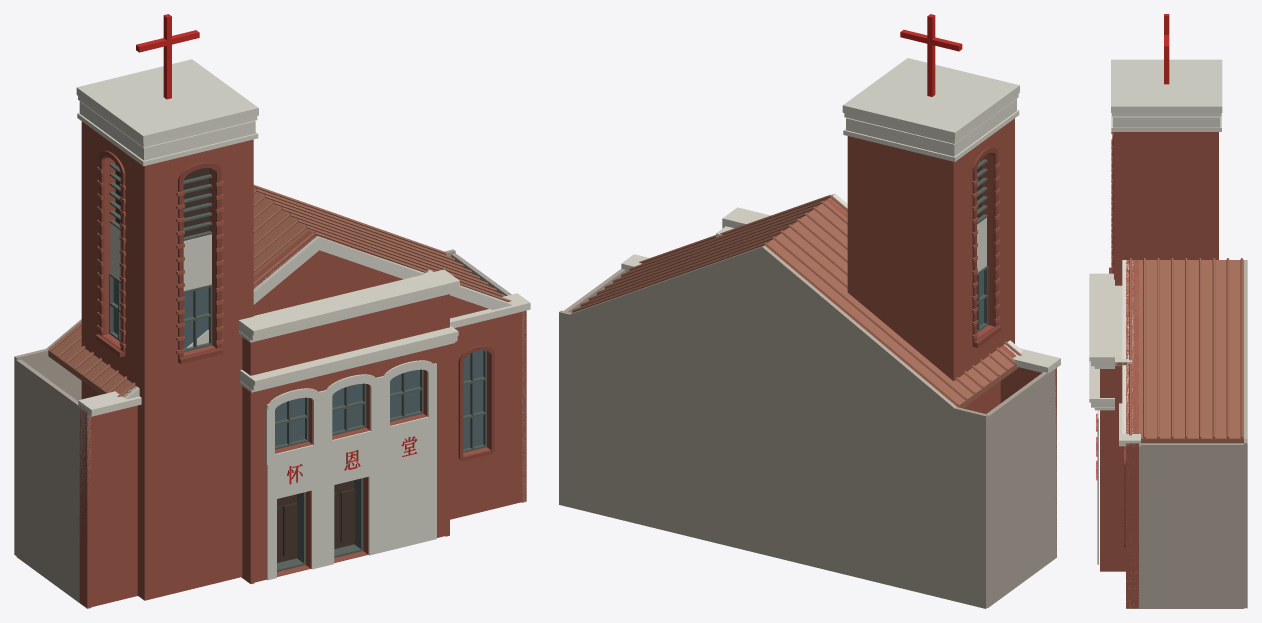
The model's file is jingan-grace-church-street-front-lod.glb.
3 views of the same model, side by side, from view 1: azimuth 30°, elevation 25°; view 2: azimuth 150°, elevation 25°; view 3: azimuth 270°, elevation 25° (orthographic). The views are drawn at different scales.
Parts seen in each view (by area): view 1: 怀恩堂陕西北路入口与东南角砖塔; view 2: 怀恩堂陕西北路入口与东南角砖塔; view 3: 怀恩堂陕西北路入口与东南角砖塔.
Boxes of the visible parts, box(x1,y1,x2,y2) form: 怀恩堂陕西北路入口与东南角砖塔: box(14, 14, 530, 608); 怀恩堂陕西北路入口与东南角砖塔: box(559, 14, 1060, 608); 怀恩堂陕西北路入口与东南角砖塔: box(1089, 14, 1247, 608).
Bounding box in the file's own units: 12.24 × 14.64 × 4.59.
